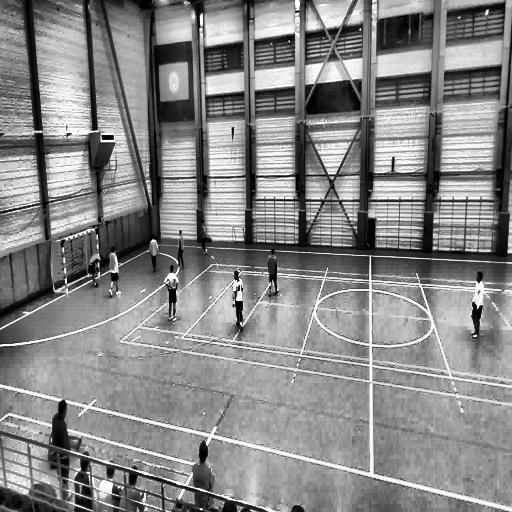player: (48, 400, 75, 504), (192, 442, 215, 508), (76, 451, 98, 512), (121, 464, 147, 512), (97, 461, 120, 512), (469, 269, 485, 340), (232, 269, 246, 330), (166, 263, 179, 321), (108, 246, 122, 297), (198, 218, 210, 261), (268, 248, 278, 297), (89, 249, 101, 288), (149, 234, 158, 273), (176, 229, 184, 268)
